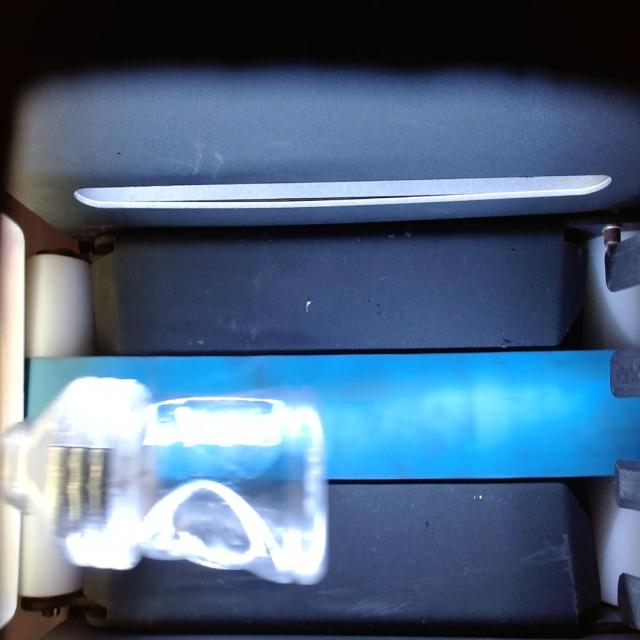bottom: (272, 377, 342, 597)
no_cap: (0, 407, 39, 518)
